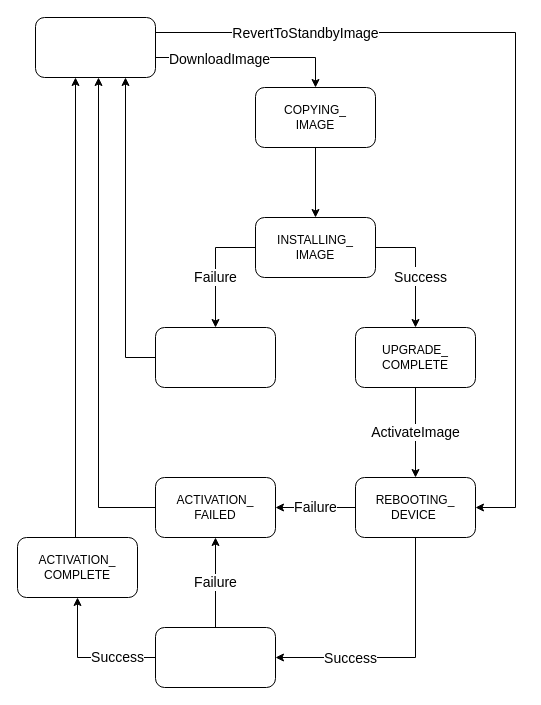
The diagram is 541 pixels wide and 705 high, and some of its shapes have lost their labels. The shapes that lost their labels are listed below. From the top down, each one's centre as x and y in pixels, then its label:
At point 95,47: "UNDEFINED_ STATE".
At point 215,357: "UPGRADE_ FAILED".
At point 215,657: "COMMITING_ IMAGE".
